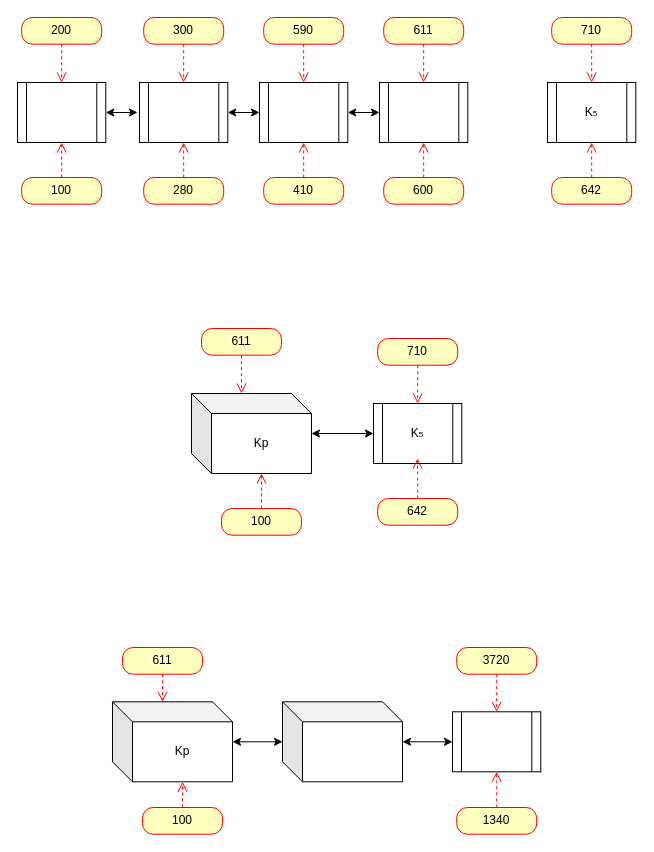
This 654x852 diagram has some shape labels left out. The shapes that lost their labels are listed below. From the top down, each one's centre as x and y in pixels, then its label:
At (x=61, y=112): "K 1".
At (x=183, y=112): "K 2".
At (x=303, y=112): "K 3".
At (x=423, y=112): "K 4".
At (x=342, y=741): "Kpx".
At (x=496, y=741): "K 9".
